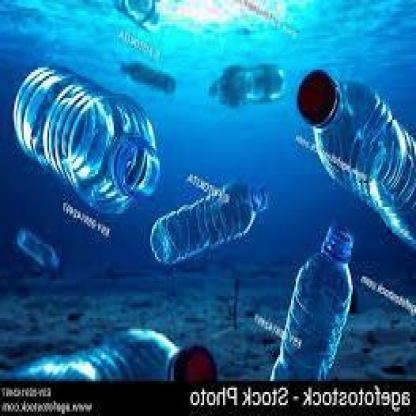pbottle: (11, 57, 160, 216), (292, 63, 416, 248), (266, 216, 359, 383), (1, 322, 220, 381), (150, 172, 277, 266), (206, 58, 288, 118), (114, 50, 180, 98), (13, 226, 72, 276)
